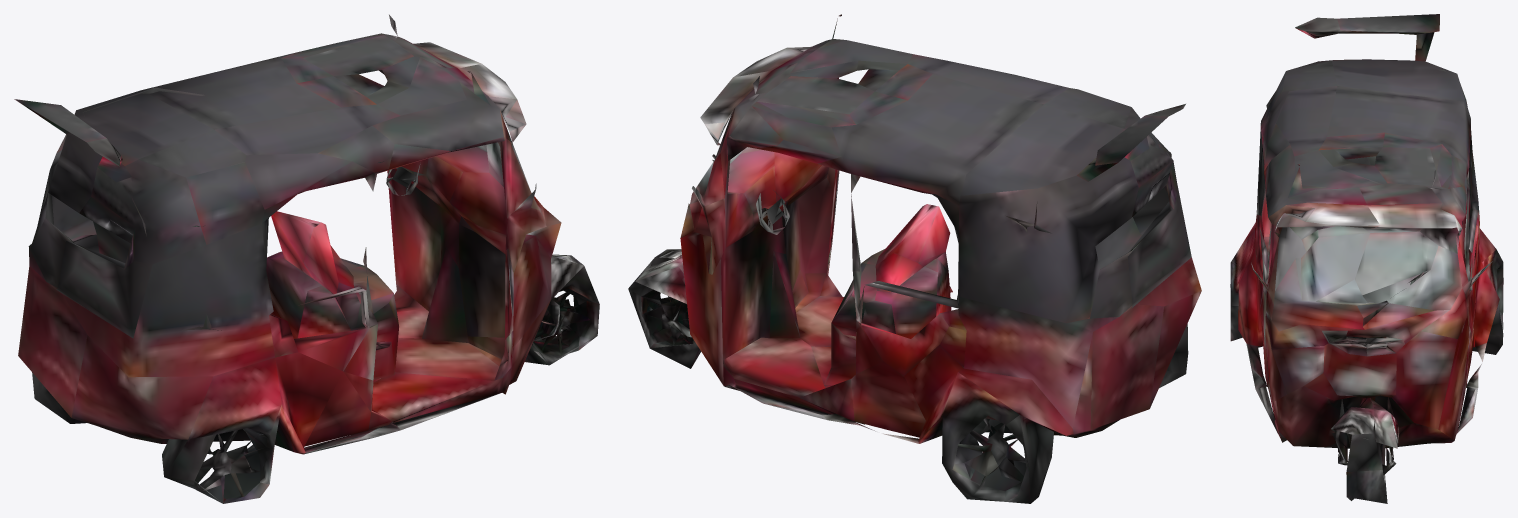
Rendered from tukking_2.glb.
3 renders of one model, left to right at view 1: azimuth 30°, elevation 25°; view 2: azimuth 150°, elevation 25°; view 3: azimuth 270°, elevation 25°, orthographic. The views are drawn at different scales.
Parts seen in each view (by area): view 1: tripo_node_3a626c2a-ee75-473e-8684-4d02fdd26bb4; view 2: tripo_node_3a626c2a-ee75-473e-8684-4d02fdd26bb4; view 3: tripo_node_3a626c2a-ee75-473e-8684-4d02fdd26bb4.
Part boxes in pixels (box(x1,y1,x2,y2)): tripo_node_3a626c2a-ee75-473e-8684-4d02fdd26bb4: box(14, 14, 599, 503); tripo_node_3a626c2a-ee75-473e-8684-4d02fdd26bb4: box(628, 14, 1201, 503); tripo_node_3a626c2a-ee75-473e-8684-4d02fdd26bb4: box(1230, 14, 1503, 503).
Bounding box in the file's own units: 0.9614 × 0.6047 × 0.5082.
1 material, 1 textured.
